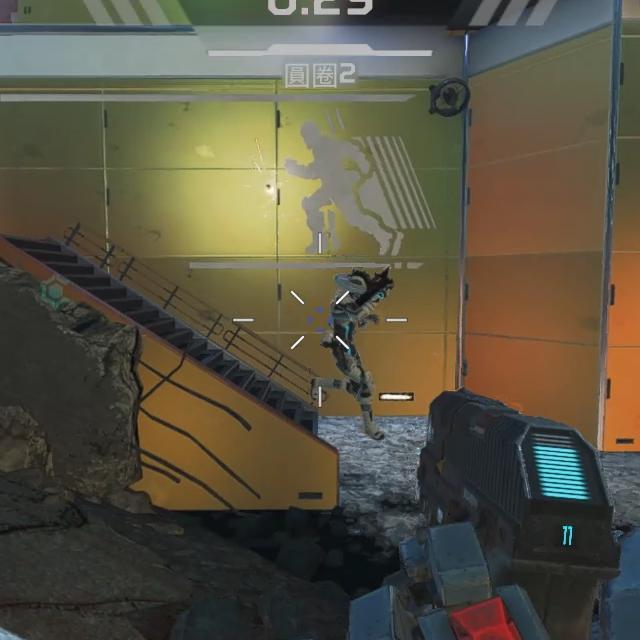avatar: (305, 269, 397, 443)
